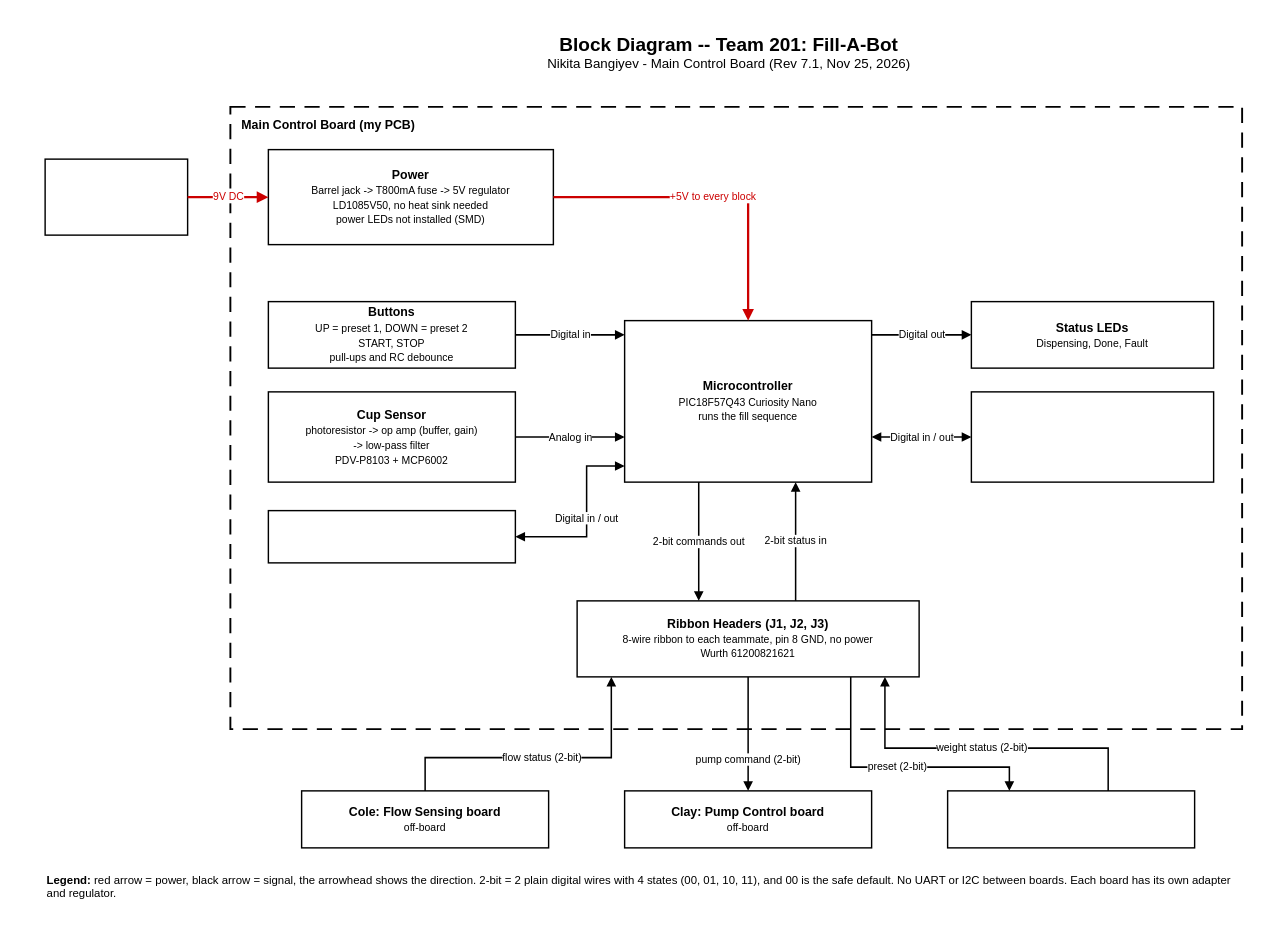
Some shapes in this 1286 by 935 pixel diagram are drawn without their labels. The centre of each missing label's shape, as x and y in pixels:
Debug button (LED not installed): point (391, 536)
Expansion Headers J5 header and test pads spare pins for fixes: point (1092, 436)
Troy: Liquid Amount board off-board: point (1070, 819)
Wall adapter 9V 2A, off-board Triad WSU090-2000: point (116, 196)
